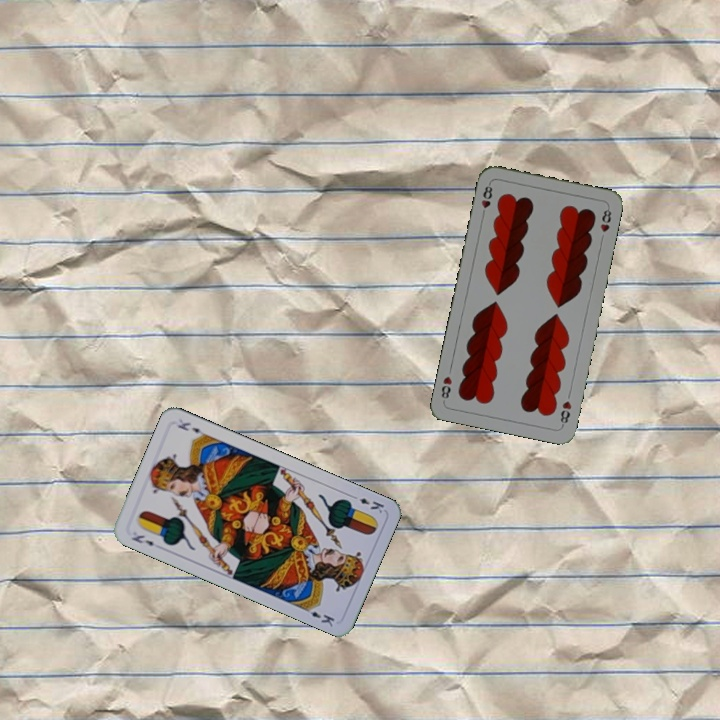EK: (347, 491, 387, 516), (128, 531, 156, 549)
H8: (477, 179, 495, 219), (556, 397, 574, 429)
